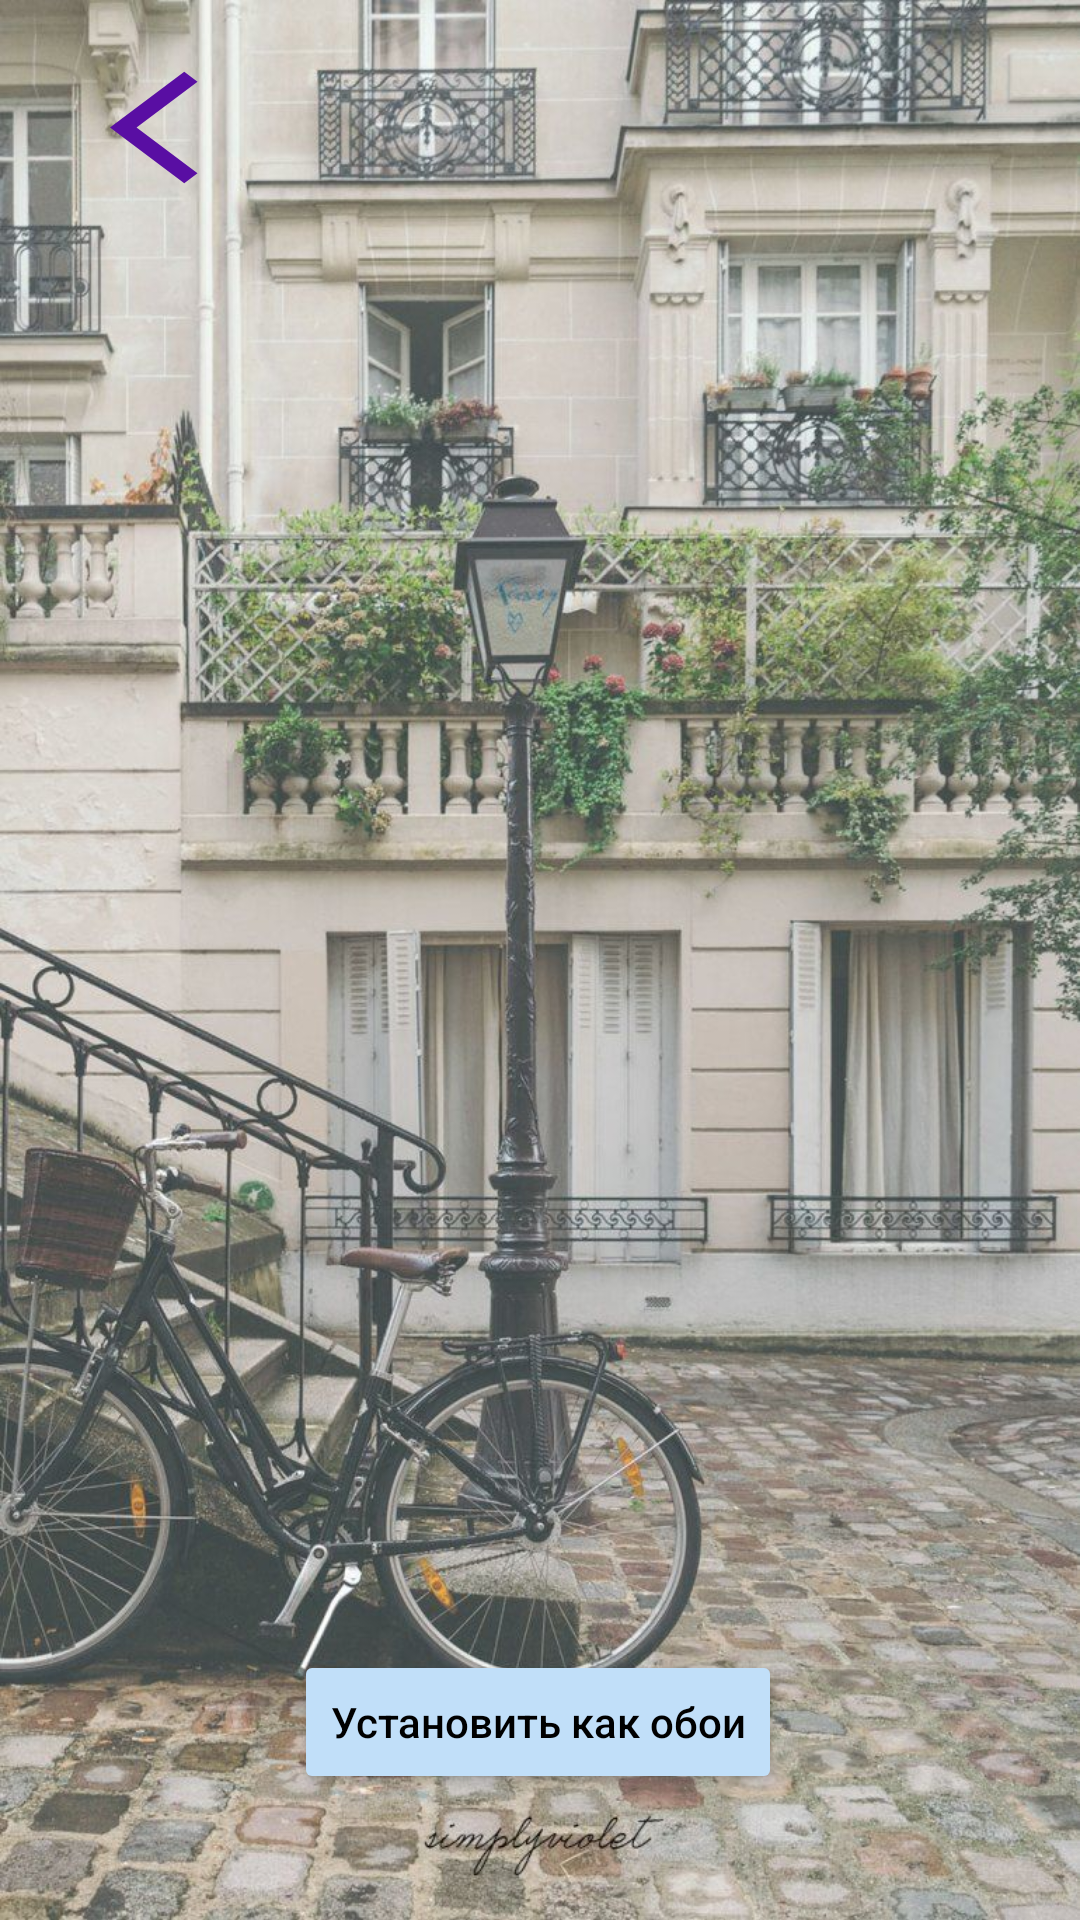

Screen size 1080 × 1920. Icon name, then its center in pixels as point (x, y):
arrow back: point (177, 127)
